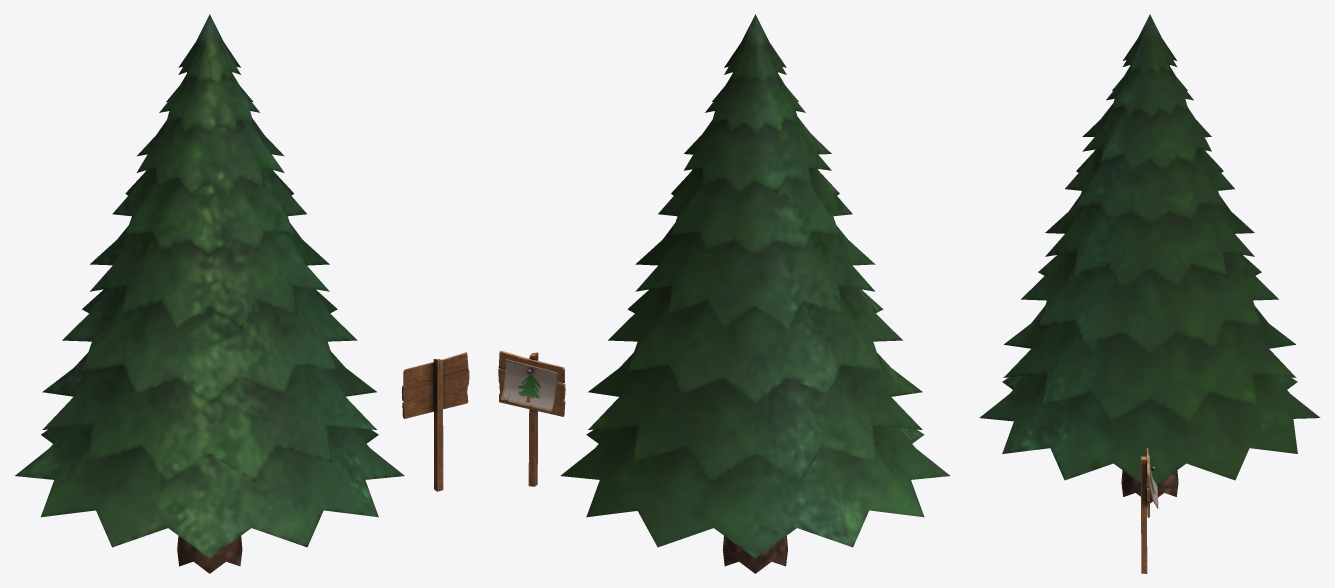
The model's file is tree.glb.
The picture shows the model from 3 angles, left to right: view 1: azimuth 30°, elevation 25°; view 2: azimuth 150°, elevation 25°; view 3: azimuth 270°, elevation 25°; orthographic projection. The views are drawn at different scales.
Parts seen in each view (by area): view 1: Christmastree2023, CorralSignMT; view 2: Christmastree2023, CorralSignMTPaper, CorralSignMT; view 3: Christmastree2023, CorralSignMT.
Part boxes in pixels (x1,y1,x2,y2): Christmastree2023: [15, 14, 404, 573]; CorralSignMT: [401, 352, 469, 491]; Christmastree2023: [560, 14, 949, 573]; CorralSignMTPaper: [500, 359, 557, 412]; CorralSignMT: [498, 350, 565, 486]; Christmastree2023: [979, 14, 1320, 503]; CorralSignMT: [1140, 448, 1149, 573].
Bounding box in the file's own units: 3.46 × 4.21 × 2.74.
2 materials, 2 textured.
